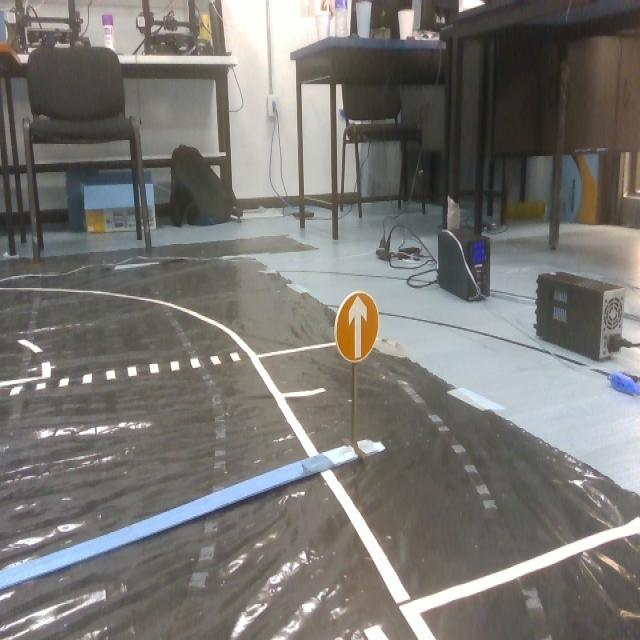right_turn: (328, 287, 382, 363)
